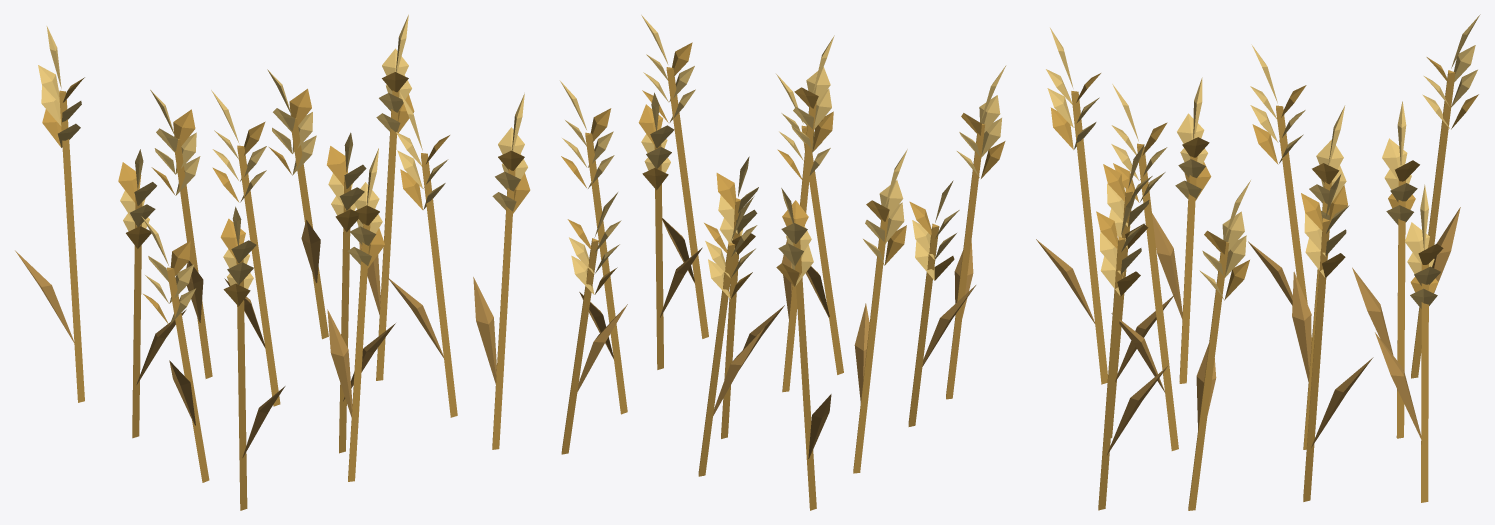
The model's file is ripe_wheat.glb.
3 views of the same model, side by side, from view 1: azimuth 30°, elevation 25°; view 2: azimuth 150°, elevation 25°; view 3: azimuth 270°, elevation 25° (orthographic). The views are drawn at different scales.
Visible parts, largest first — view 1: Ripe wheat; view 2: Ripe wheat; view 3: Ripe wheat.
Boxes of the visible parts, <box> form: Ripe wheat: <box>15,14,530,510</box>; Ripe wheat: <box>560,15,1006,510</box>; Ripe wheat: <box>1036,14,1480,510</box>.
Size of the model in its own units: 0.953 by 0.9119 by 1.01.
